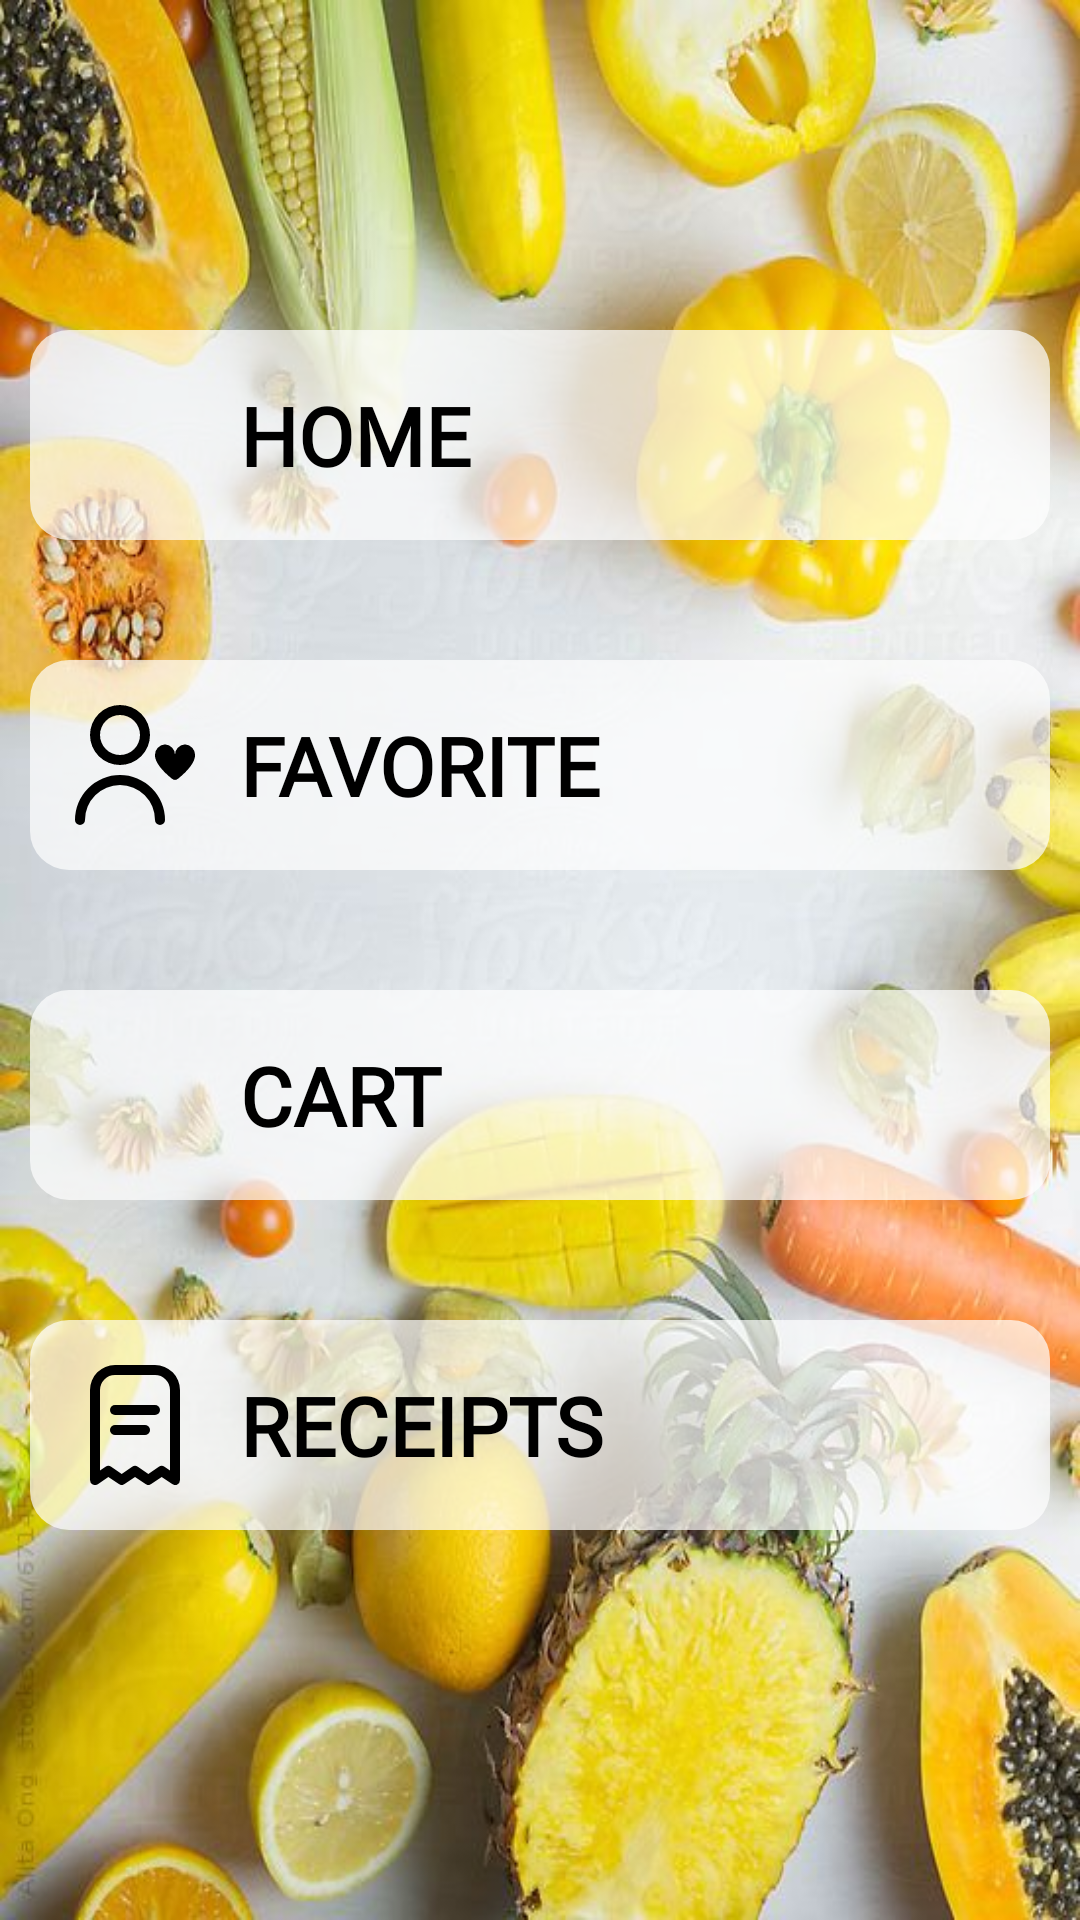

Locate icon controls on the screen. Image size 1080w x 1920h, boxes as (x1, y1, x2, y2).
following: (60, 690, 195, 825)
